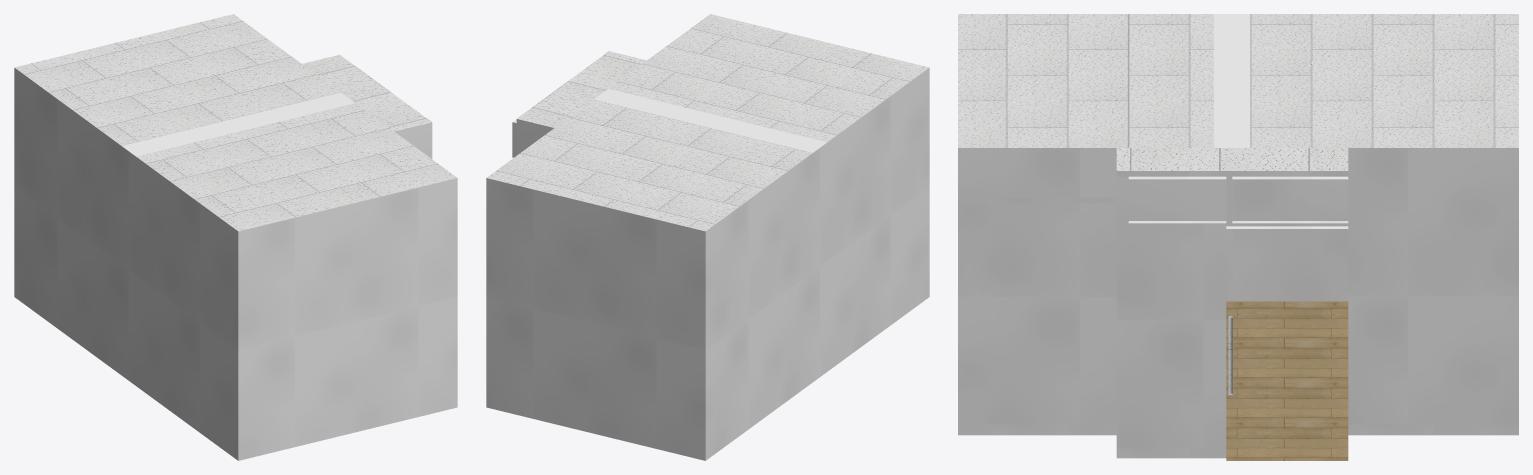
The model's file is rouka.obj.
3 renders of one model, left to right at view 1: azimuth 30°, elevation 25°; view 2: azimuth 150°, elevation 25°; view 3: azimuth 270°, elevation 25°, orthographic. The views are drawn at different scales.
Parts seen in each view (by area): view 1: rouka_0, rouka_2, rouka_3; view 2: rouka_0, rouka_2, rouka_3; view 3: rouka_0, rouka_2, rouka_1, rouka_3.
Part boxes in pixels (<box>): rouka_0: <box>14,68,457,460</box>; rouka_2: <box>14,14,456,231</box>; rouka_3: <box>122,92,354,156</box>; rouka_0: <box>486,68,929,460</box>; rouka_2: <box>487,14,929,231</box>; rouka_3: <box>594,89,826,152</box>; rouka_0: <box>958,148,1518,458</box>; rouka_2: <box>958,14,1518,394</box>; rouka_1: <box>1226,301,1348,460</box>; rouka_3: <box>1214,14,1250,228</box>.
Bounding box in the file's own units: 3.1 × 2.6 × 4.6.
Materials: 4 (3 with a texture image).
